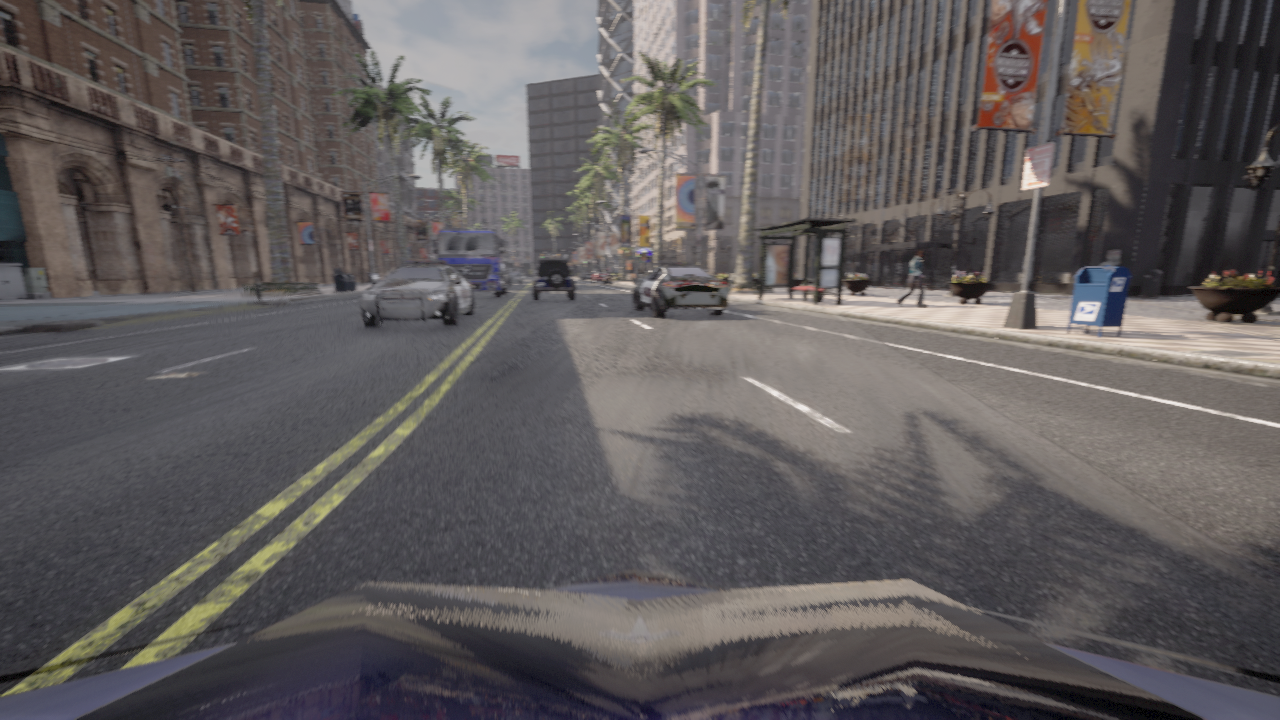cyclist: (0, 569, 1279, 719), (360, 261, 475, 327), (633, 262, 729, 317), (432, 229, 507, 296), (532, 258, 575, 300), (501, 263, 512, 286), (591, 269, 609, 283), (511, 270, 522, 284), (637, 268, 654, 277), (603, 273, 612, 284), (581, 272, 592, 280)
pedestrian: (897, 249, 926, 305), (332, 263, 342, 277)
